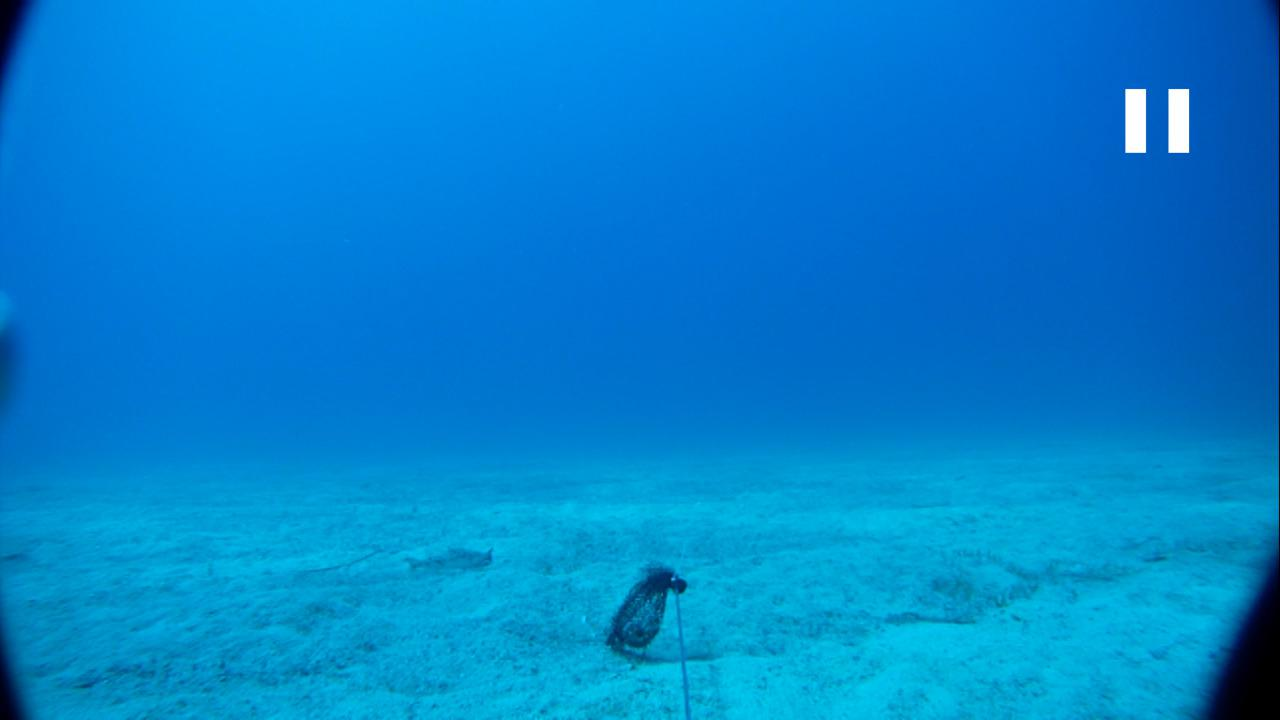dactylopterus: (387, 534, 509, 589)
